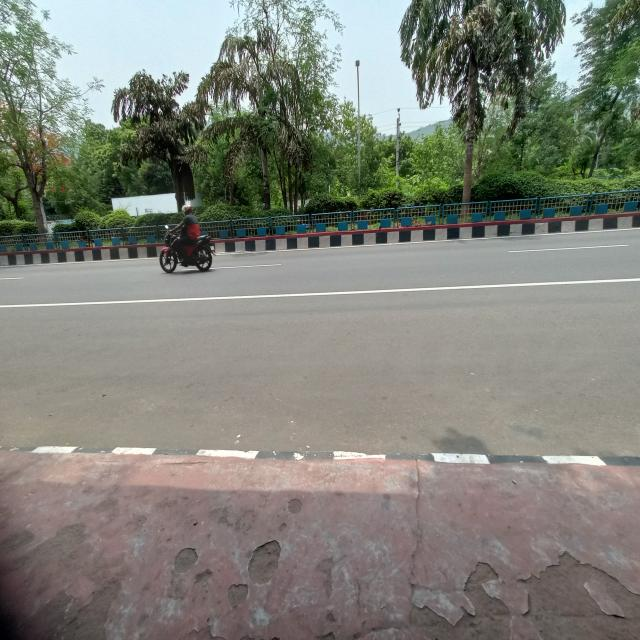bike: (154, 225, 222, 286)
